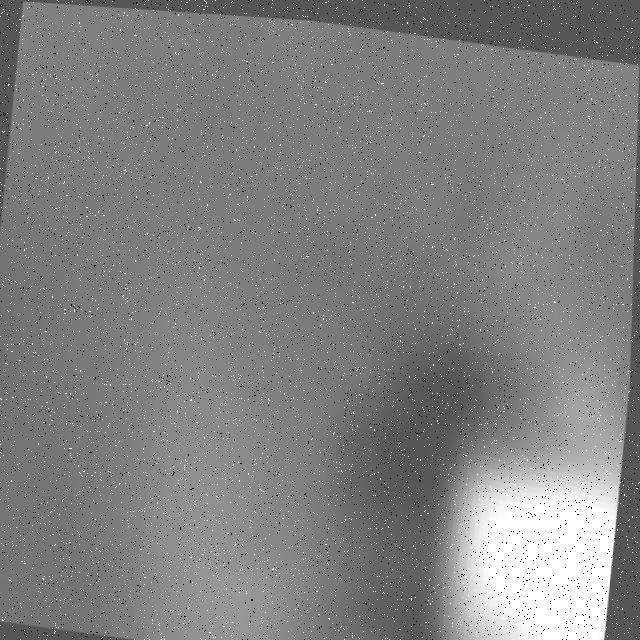person: (437, 337, 634, 640)
